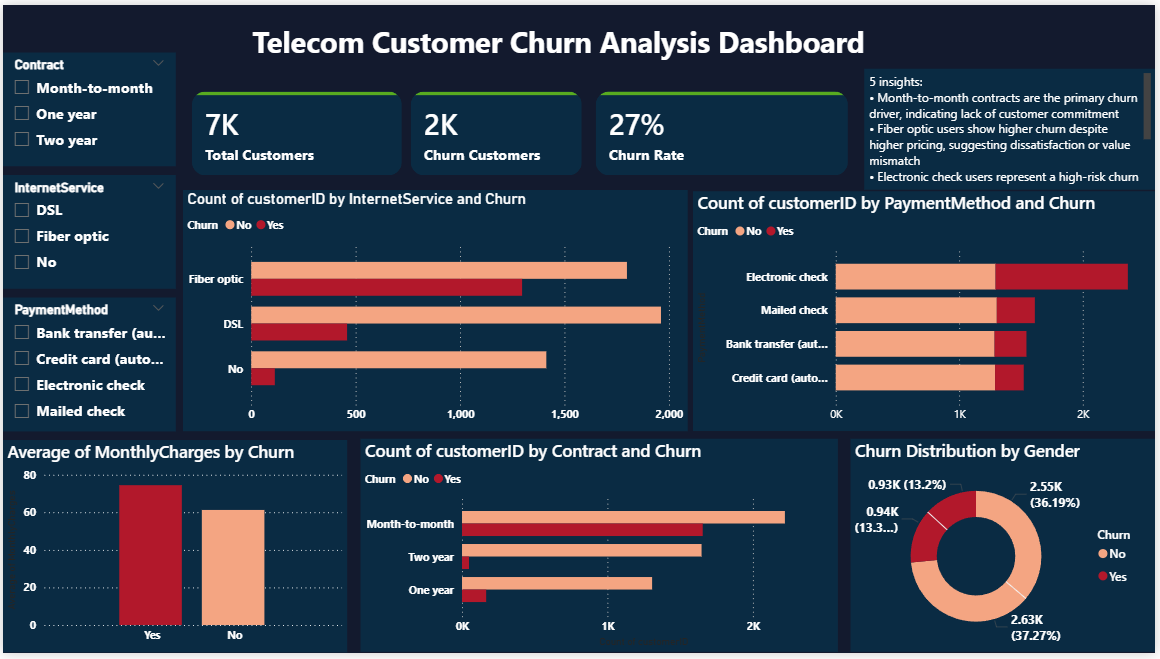

Layout of this report page (visuals, bound fields, positions):
{"tool":"powerbi","page":{"name":"Page 1","canvas":[1280,720],"ordinal":0},"visuals":[{"type":"cardVisual","fields":{"Data":["churn_dataset.churn customers"]},"box":[434.7,77.8,226.4,129.2],"z":0},{"type":"clusteredBarChart","fields":{"Category":["churn_dataset.Contract"],"Series":["churn_dataset.Churn"],"Y":["CountNonNull(churn_dataset.customerID)"]},"box":[396.7,481.7,530,236.7],"z":1000},{"type":"clusteredBarChart","fields":{"Series":["churn_dataset.Churn"],"Y":["CountNonNull(churn_dataset.customerID)"],"Category":["churn_dataset.InternetService"]},"box":[200,205.6,561.1,268.1],"z":2000},{"type":"barChart","fields":{"Category":["churn_dataset.PaymentMethod"],"Y":["CountNonNull(churn_dataset.customerID)"],"Series":["churn_dataset.Churn"]},"box":[766.7,206.9,513.9,266.7],"z":3000},{"type":"clusteredColumnChart","fields":{"Category":["churn_dataset.Churn"],"Y":["Avg(churn_dataset.MonthlyCharges)"]},"box":[0,483.6,382.1,235.8],"z":4000},{"type":"donutChart","title":"Churn Distribution by Gender","fields":{"Category":["churn_dataset.Churn"],"Y":["CountNonNull(churn_dataset.customerID)"],"Series":["churn_dataset.gender"]},"box":[941.7,481.7,338.3,236.7],"z":5000},{"type":"slicer","fields":{"Values":["churn_dataset.Contract"]},"box":[0,52.8,191.7,126.4],"z":6000},{"type":"cardVisual","fields":{"Data":["churn_dataset.Churn Rate"]},"box":[640.3,77.8,316.7,129.2],"z":7000},{"type":"cardVisual","fields":{"Data":["churn_dataset.Total Customers"]},"box":[191.7,77.8,269.4,129.2],"z":8000},{"type":"slicer","fields":{"Values":["churn_dataset.InternetService"]},"box":[0,188.9,191.7,126.4],"z":9000},{"type":"slicer","fields":{"Values":["churn_dataset.PaymentMethod"]},"box":[0,325,191.7,148.6],"z":10000},{"type":"textbox","box":[956.9,70.8,323.6,134.7],"z":11000},{"type":"textbox","box":[233.3,13.9,768.1,77.8],"z":12000}]}

Visuals, with their boxes in screenshot pixels (x1, y1, x2, y2), scaled from the page's 1280x720 canvas onto the 1160x659 screenshot:
cardVisual - churn_dataset.churn customers: 394,71,599,189
clusteredBarChart - churn_dataset.Contract x churn_dataset.Churn: 360,441,840,658
clusteredBarChart - churn_dataset.Churn x CountNonNull(churn_dataset.customerID): 181,188,690,434
barChart - churn_dataset.PaymentMethod x CountNonNull(churn_dataset.customerID): 695,189,1159,433
clusteredColumnChart - churn_dataset.Churn x Avg(churn_dataset.MonthlyCharges): 0,443,346,658
"Churn Distribution by Gender" donutChart: 853,441,1159,658
slicer - churn_dataset.Contract: 0,48,174,164
cardVisual - churn_dataset.Churn Rate: 580,71,867,189
cardVisual - churn_dataset.Total Customers: 174,71,418,189
slicer - churn_dataset.InternetService: 0,173,174,289
slicer - churn_dataset.PaymentMethod: 0,297,174,433
textbox: 867,65,1159,188
textbox: 211,13,908,84
